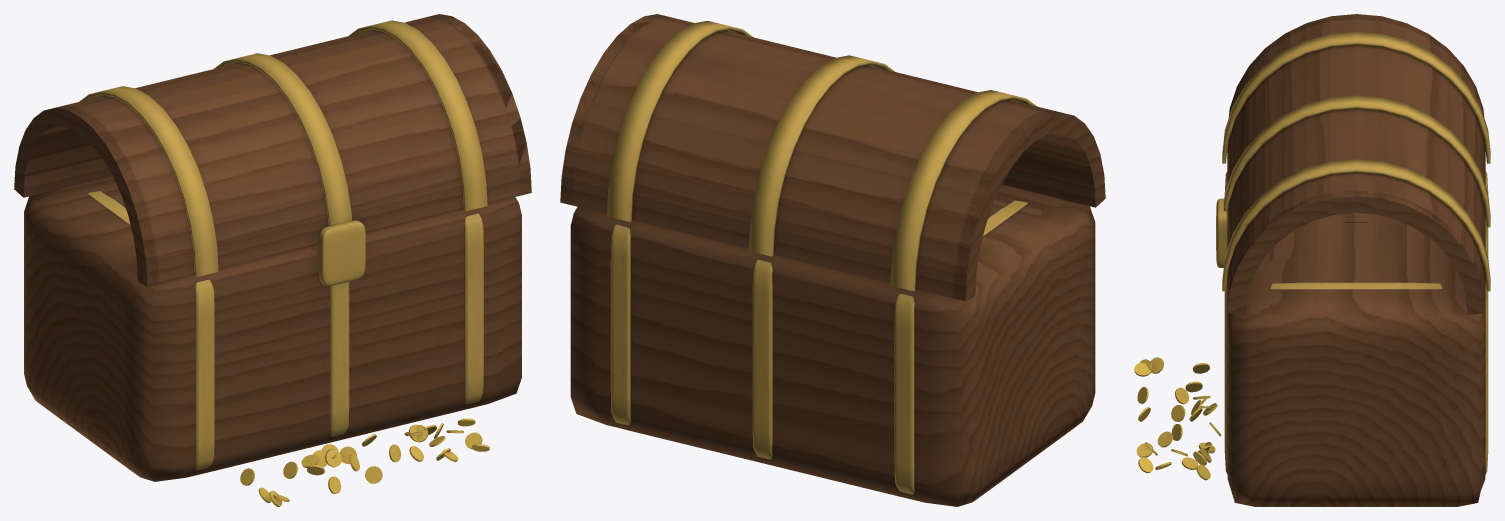
The model's file is gold-trim.glb.
3 renders of one model, left to right at view 1: azimuth 30°, elevation 25°; view 2: azimuth 150°, elevation 25°; view 3: azimuth 270°, elevation 25°, orthographic. The views are drawn at different scales.
Parts seen in each view (by area): view 1: chest_wood, gold_trim, gold_coin; view 2: chest_wood, gold_trim; view 3: chest_wood, gold_trim, gold_coin.
Part boxes in pixels (x1,y1,x2,y2): chest_wood: (14, 14, 531, 481); gold_trim: (79, 20, 487, 470); gold_coin: (240, 418, 489, 506); chest_wood: (560, 14, 1105, 506); gold_trim: (607, 20, 1036, 494); chest_wood: (1227, 14, 1485, 506); gold_trim: (1216, 31, 1490, 474); gold_coin: (1134, 357, 1221, 480).
Bounding box in the file's own units: 0.7 × 0.583 × 0.579.
Materials: 3 (3 with a texture image).
